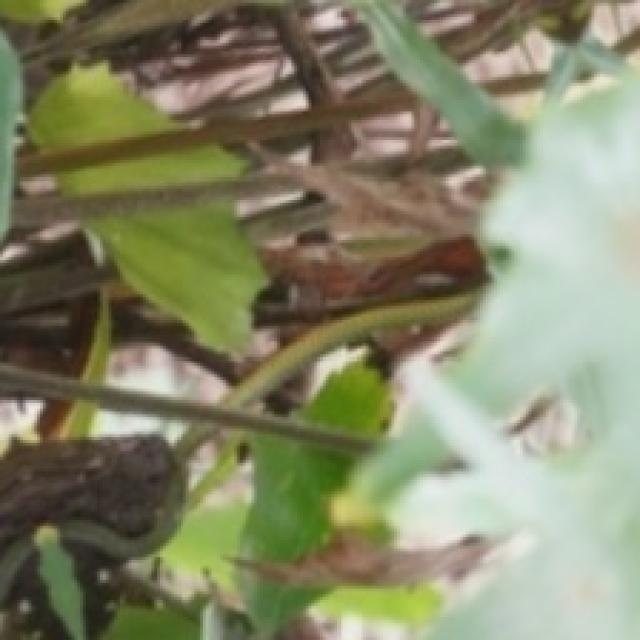paradise tree snake: (0, 434, 183, 637)
